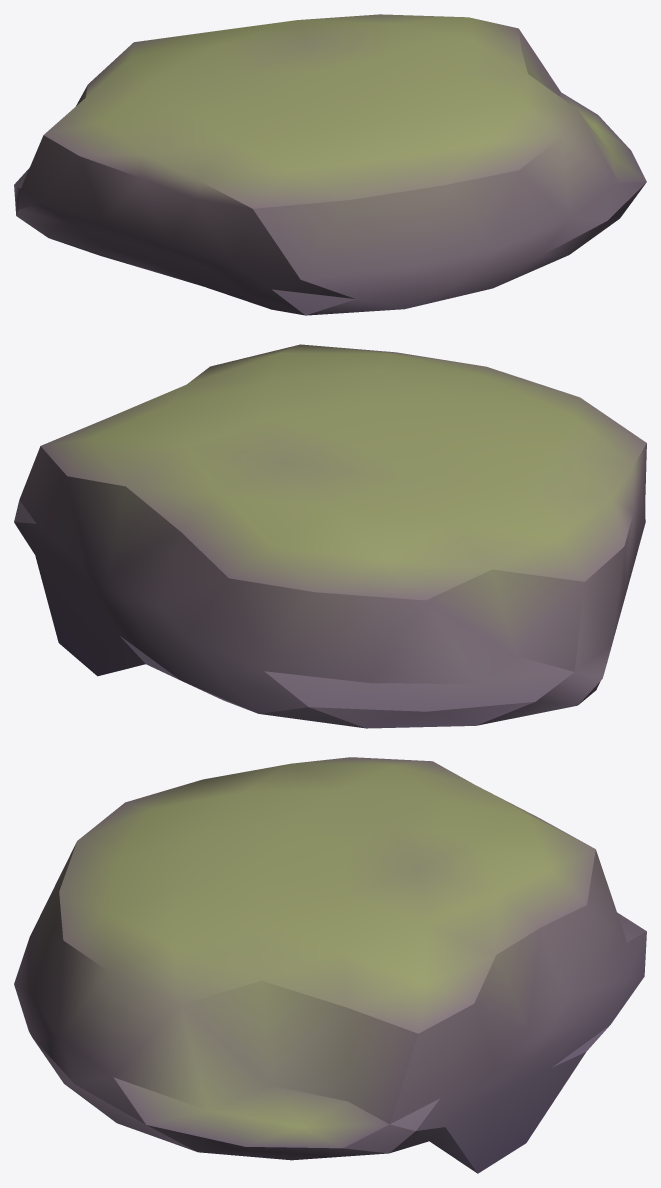
The model's file is Rock_Slab.glb.
The picture shows the model from 3 angles, top to bottom: view 1: azimuth 30°, elevation 25°; view 2: azimuth 150°, elevation 25°; view 3: azimuth 270°, elevation 25°; orthographic projection. The views are drawn at different scales.
Parts seen in each view (by area): view 1: Rock_Slab; view 2: Rock_Slab; view 3: Rock_Slab.
Boxes of the visible parts, bbox=[...] form: Rock_Slab: bbox=[14, 14, 646, 315]; Rock_Slab: bbox=[14, 344, 646, 728]; Rock_Slab: bbox=[14, 757, 646, 1173].
Size of the model in its own units: 3.13 by 0.9914 by 2.72.
